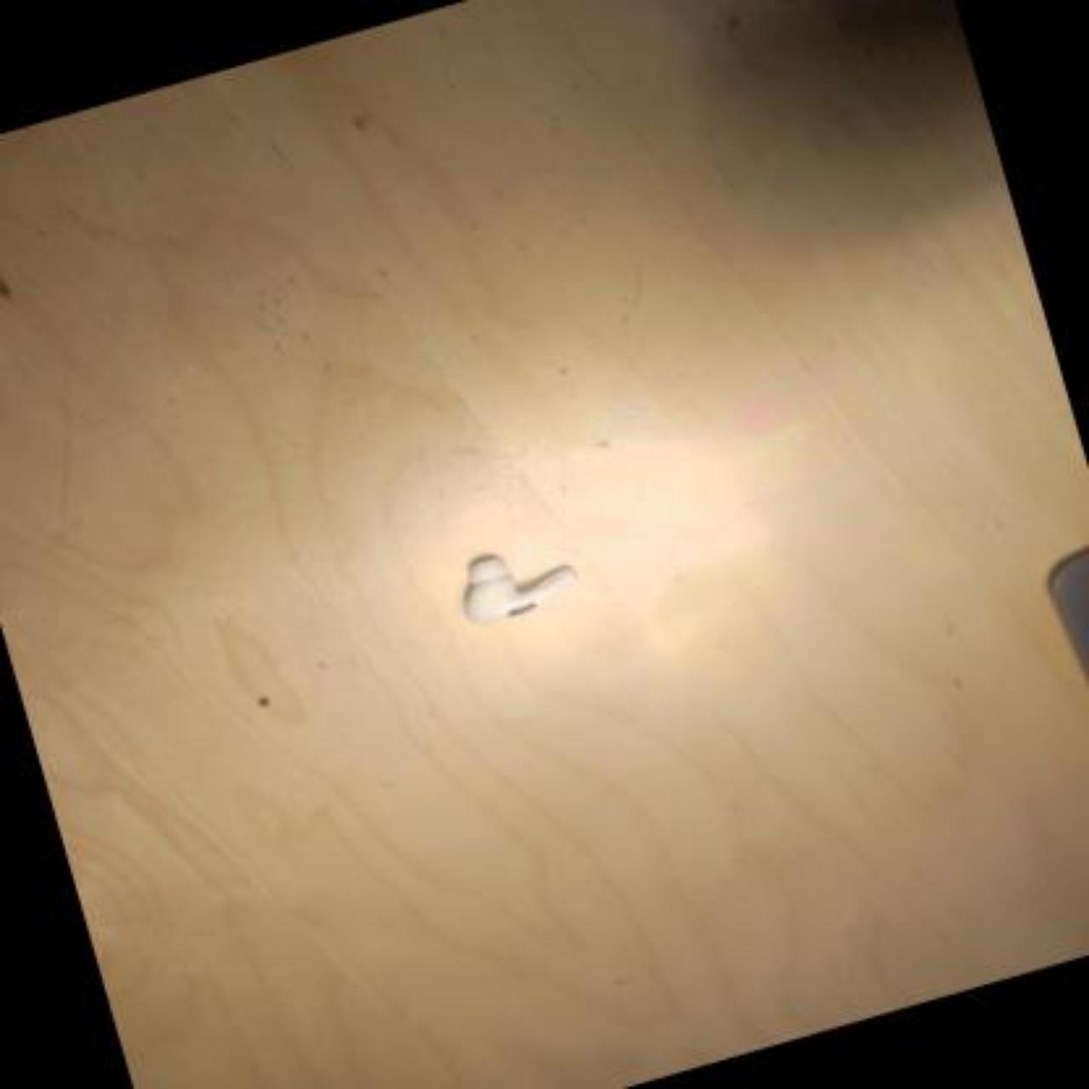Airpods_Units: (457, 536, 582, 627)
